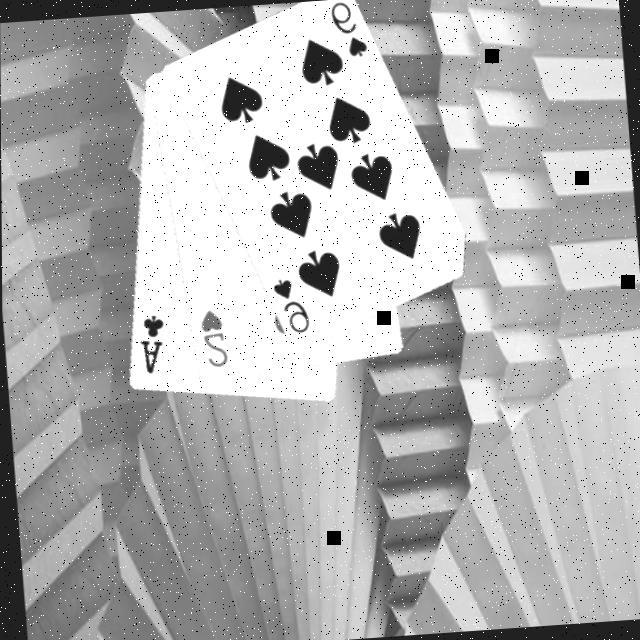2H: (195, 303, 230, 369)
9S: (269, 272, 313, 337), (326, 0, 370, 60)
AC: (133, 309, 169, 375)
